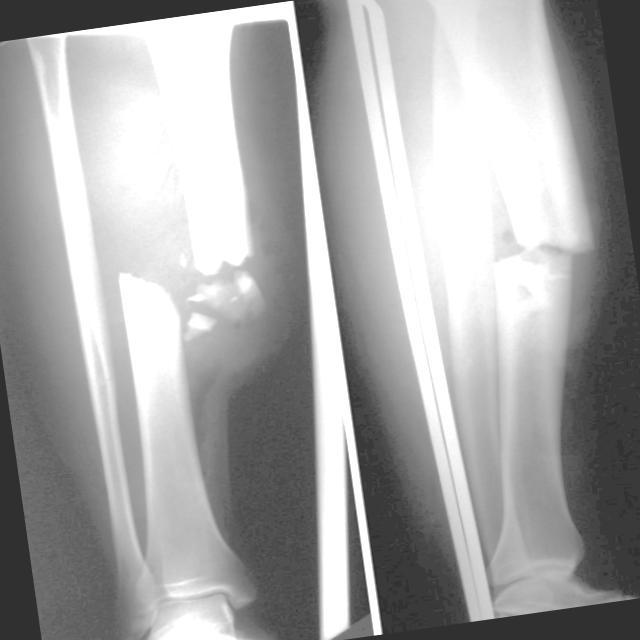Comminuted Fracture: (104, 222, 276, 323), (457, 214, 601, 314)
